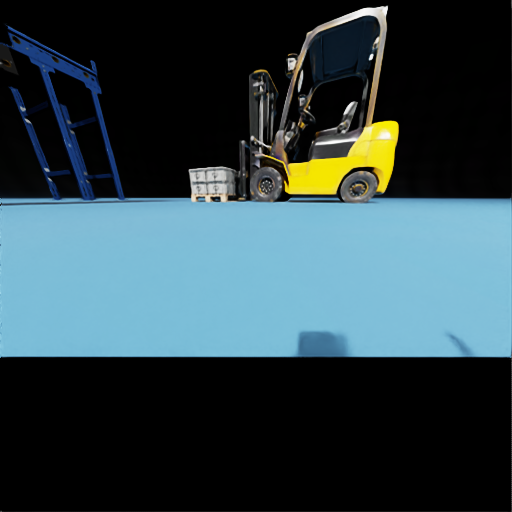transportation_area: (207, 181, 239, 193), (40, 50, 41, 51), (30, 45, 31, 46)
